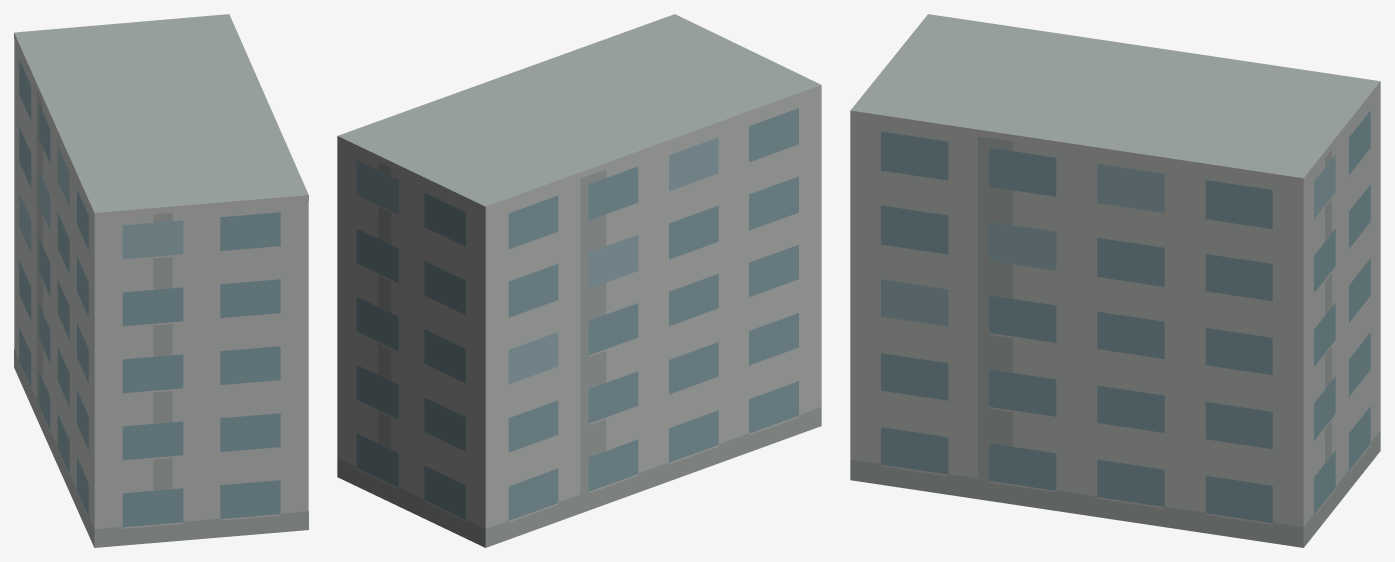
Rendered from survey-upis-33006565.glb.
The picture shows the model from 3 angles, left to right: view 1: azimuth 30°, elevation 25°; view 2: azimuth 150°, elevation 25°; view 3: azimuth 270°, elevation 25°; orthographic projection. The views are drawn at different scales.
Visible parts, largest first — view 1: survey-upis-33006565.tmp; view 2: survey-upis-33006565.tmp; view 3: survey-upis-33006565.tmp.
Part boxes in pixels (bbox=[...]): survey-upis-33006565.tmp: bbox=[14, 14, 308, 547]; survey-upis-33006565.tmp: bbox=[337, 14, 821, 547]; survey-upis-33006565.tmp: bbox=[850, 14, 1380, 547].
Size of the model in its own units: 12.59 by 13.2 by 17.17.
